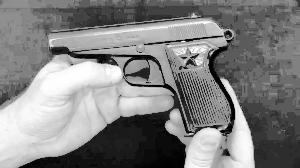handgun: (41, 14, 245, 140)
